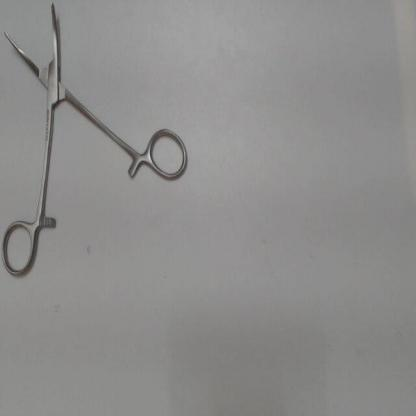Crile Artery Forceps: (0, 0, 190, 286)
